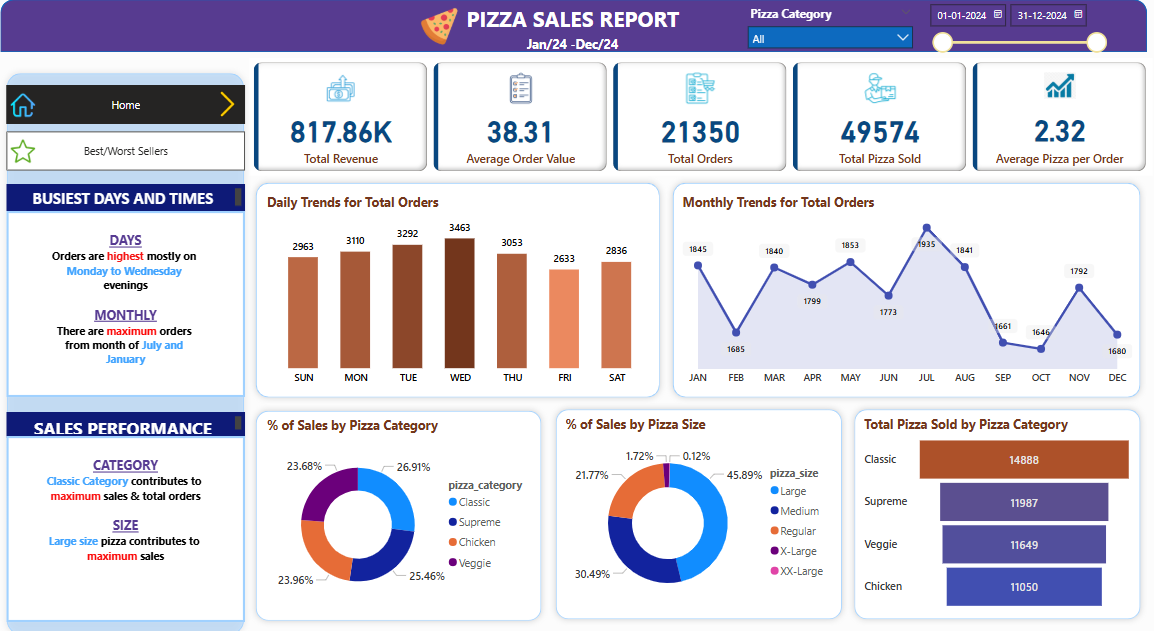

What the dashboard file says about the page in this screenshot:
{"tool":"powerbi","page":{"name":"Home","canvas":[1500,820],"ordinal":0},"visuals":[{"type":"cardVisual","fields":{"Data":["pizza_report pizza_orders.Total Revenue","pizza_report pizza_orders.Average Order Value","pizza_report pizza_orders.Total Orders","pizza_report pizza_orders.Total Pizza Sold","pizza_report pizza_orders.Average Pizza per Order"]},"box":[342.3,87.7,1136.2,147.7],"z":0},{"type":"shape","box":[28,14,1442,66],"z":1000},{"type":"textbox","box":[610,14,292,56],"z":2000},{"type":"textbox","box":[685.4,53.8,142.1,44.2],"z":3000},{"type":"image","box":[551.7,16.7,58.3,60],"z":4000},{"type":"shape","box":[342,236,524,286],"z":5000},{"type":"columnChart","title":"Daily Trends for Total Orders","fields":{"Category":["pizza_report pizza_orders.Order Day"],"Y":["pizza_report pizza_orders.Total Orders"]},"box":[358,256,496,250],"z":6000},{"type":"shape","box":[866,236,604,286],"z":7000},{"type":"areaChart","title":"Monthly Trends for Total Orders ","fields":{"Y":["pizza_report pizza_orders.Total Orders"],"Category":["pizza_report pizza_orders.Monthly Orders"]},"box":[881.4,255.7,575.7,250],"z":8000},{"type":"shape","box":[342,522,375,280],"z":9000},{"type":"shape","box":[718.6,521.4,375.7,280],"z":10000},{"type":"shape","box":[28.2,98.2,314.1,721.8],"z":11000},{"type":"shape","box":[1094.3,521.4,375.7,280],"z":12000},{"type":"donutChart","title":"% of Sales by Pizza Category","fields":{"Category":["pizza_report pizza_orders.pizza_category"],"Y":["pizza_report pizza_orders.Total Revenue"]},"box":[358.5,536.9,346.9,250],"z":13000},{"type":"donutChart","title":"% of Sales by Pizza Size","fields":{"Y":["pizza_report pizza_orders.Total Revenue"],"Category":["pizza_report pizza_orders.pizza_size"]},"box":[733.1,536.2,346.9,250],"z":14000},{"type":"funnel","title":"Total Pizza Sold by Pizza Category","fields":{"Category":["pizza_report pizza_orders.pizza_category"],"Y":["pizza_report pizza_orders.Total Pizza Sold"]},"box":[1109.2,536.2,347.7,250],"z":15000},{"type":"textbox","box":[36,246,300,34],"z":16000},{"type":"textbox","box":[36,280,300,234],"z":17000},{"type":"textbox","box":[35.9,531.2,300,31.8],"z":18000},{"type":"textbox","box":[35.9,562.9,300,234.1],"z":19000},{"type":"slicer","fields":{"Values":["pizza_report pizza_orders.order_date"]},"box":[1185.6,10,243.3,70],"z":20000},{"type":"slicer","fields":{"Values":["pizza_report pizza_orders.pizza_category"]},"box":[958.9,14.4,227,65.6],"z":21000},{"type":"pageNavigator","box":[35.8,121.7,300,49.2],"z":22000},{"type":"pageNavigator","box":[35,179.2,300,49.2],"z":23000},{"type":"image","box":[292.5,121.7,42.5,48.3],"z":24000},{"type":"image","box":[35.8,121.7,40.8,50],"z":25000},{"type":"image","box":[35.8,179.2,40.8,49.2],"z":26000}]}

Visuals, with their boxes in screenshot pixels (x1, y1, x2, y2), scaled from the page's 1500x820 canvas onto the 1154x631 screenshot:
cardVisual - pizza_report pizza_orders.Total Revenue x pizza_report pizza_orders.Average Order Value: 263,67,1137,181
shape: 22,11,1131,62
textbox: 469,11,694,54
textbox: 527,41,637,75
image: 424,13,469,59
shape: 263,182,666,402
"Daily Trends for Total Orders" columnChart: 275,197,657,389
shape: 666,182,1131,402
"Monthly Trends for Total Orders " areaChart: 678,197,1121,389
shape: 263,402,552,617
shape: 553,401,842,617
shape: 22,76,263,630
shape: 842,401,1131,617
"% of Sales by Pizza Category" donutChart: 276,413,543,606
"% of Sales by Pizza Size" donutChart: 564,413,831,605
"Total Pizza Sold by Pizza Category" funnel: 853,413,1121,605
textbox: 28,189,258,215
textbox: 28,215,258,396
textbox: 28,409,258,433
textbox: 28,433,258,613
slicer - pizza_report pizza_orders.order_date: 912,8,1099,62
slicer - pizza_report pizza_orders.pizza_category: 738,11,912,62
pageNavigator: 28,94,258,132
pageNavigator: 27,138,258,176
image: 225,94,258,131
image: 28,94,59,132
image: 28,138,59,176
